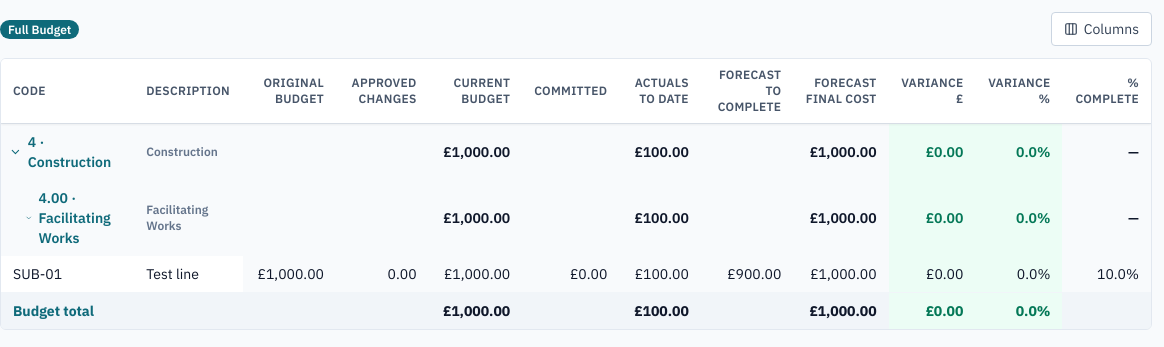
it: BudgetJobCostingGrid › collapse toggle hides the children
Check: the button with test id "budget-grid-line-line-1" is shown, box [1,256,1151,292]
# Collapse the parent group.
Click the button with test id "budget-grid-group-toggle-g-4".
click(66, 152)  # box [9,132,122,172]
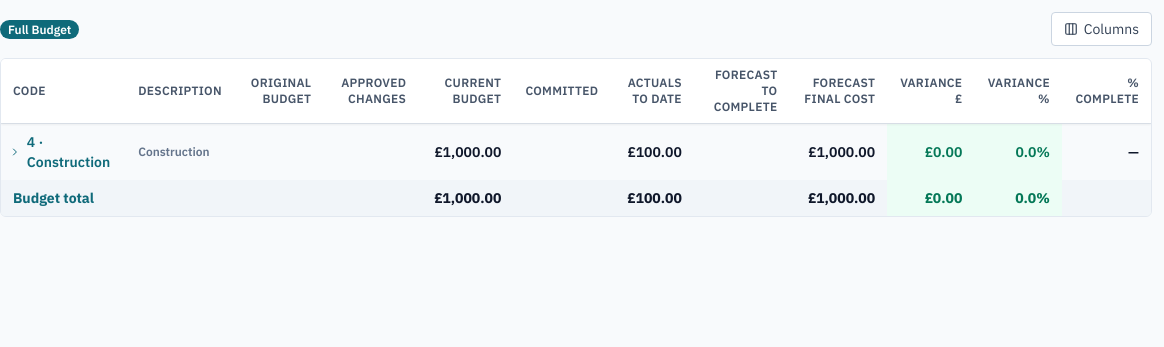
Check: the button with test id "budget-grid-line-line-1" is gone
